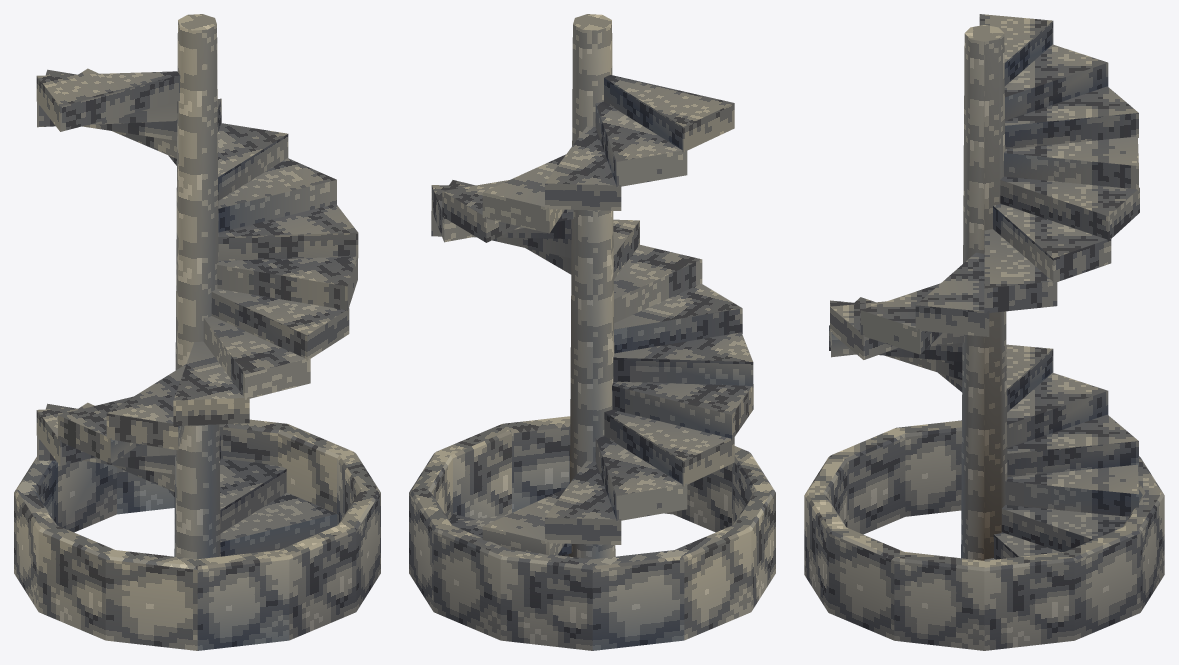
Rendered from cst.spiral_stair__tall.glb.
3 views of the same model, side by side, from view 1: azimuth 30°, elevation 25°; view 2: azimuth 150°, elevation 25°; view 3: azimuth 270°, elevation 25° (orthographic).
Parts seen in each view (by area): view 1: kit_steps, kit_drum, kit_newel; view 2: kit_steps, kit_drum, kit_newel; view 3: kit_steps, kit_drum, kit_newel.
Part boxes in pixels (x1=…): kit_steps: x1=36, y1=68, x2=358, y2=556; kit_drum: x1=14, y1=419, x2=380, y2=650; kit_newel: x1=174, y1=14, x2=220, y2=559; kit_steps: x1=431, y1=75, x2=753, y2=556; kit_drum: x1=409, y1=416, x2=775, y2=650; kit_newel: x1=569, y1=14, x2=615, y2=559; kit_steps: x1=829, y1=14, x2=1139, y2=560; kit_drum: x1=804, y1=420, x2=1164, y2=650; kit_newel: x1=961, y1=25, x2=1007, y2=560.
Size of the model in its own units: 3.98 by 6.6 by 3.98.
3 materials, 3 textured.
